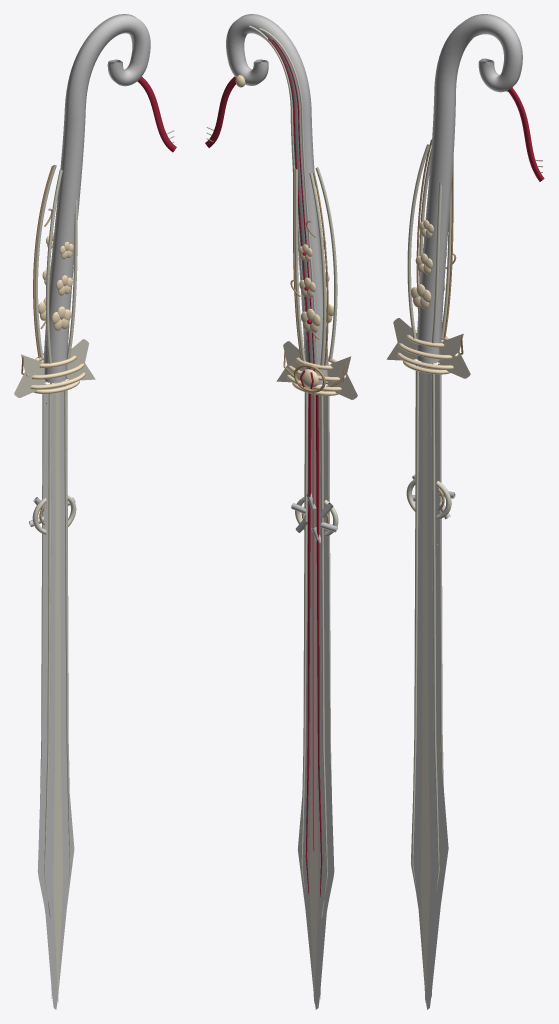
The model's file is unspoken_rue.obj.
3 renders of one model, left to right at view 1: azimuth 30°, elevation 25°; view 2: azimuth 150°, elevation 25°; view 3: azimuth 330°, elevation 25°, orthographic. The views are drawn at different scales.
Visible parts, largest first — view 1: unspoken_rue; view 2: unspoken_rue; view 3: unspoken_rue.
Part boxes in pixels (x1,y1,x2,y2): unspoken_rue: [14, 14, 176, 1009]; unspoken_rue: [205, 14, 357, 1009]; unspoken_rue: [386, 14, 544, 1009].
Bounding box in the file's own units: 0.4363 × 2.63 × 0.0934.
